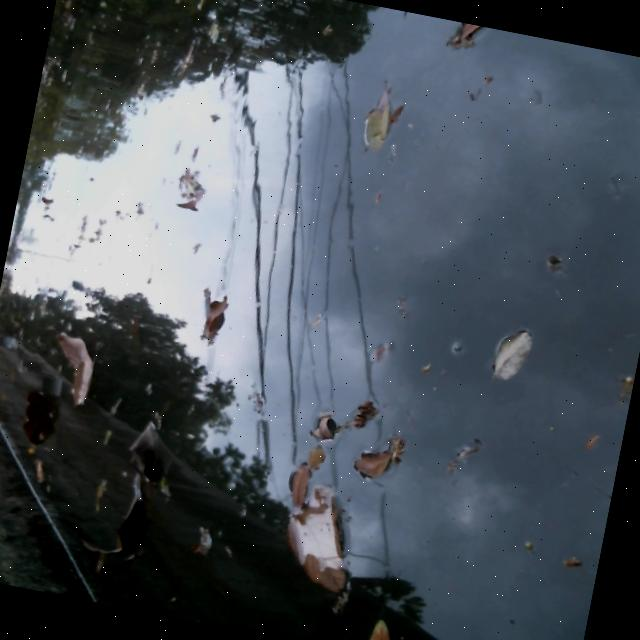Big-leaf: (65, 468, 175, 577), (281, 491, 363, 597), (35, 325, 114, 415), (121, 412, 181, 480), (11, 389, 61, 452)
Small-leaf: (350, 78, 413, 161), (349, 430, 428, 492), (479, 322, 547, 389), (161, 163, 217, 224), (436, 18, 491, 58), (199, 298, 237, 352), (310, 408, 349, 459), (275, 457, 317, 503), (20, 457, 65, 499), (363, 612, 404, 640), (189, 532, 230, 559), (348, 398, 378, 434), (85, 478, 110, 516), (302, 441, 331, 472), (94, 424, 121, 457), (366, 338, 394, 364), (108, 397, 129, 418)
